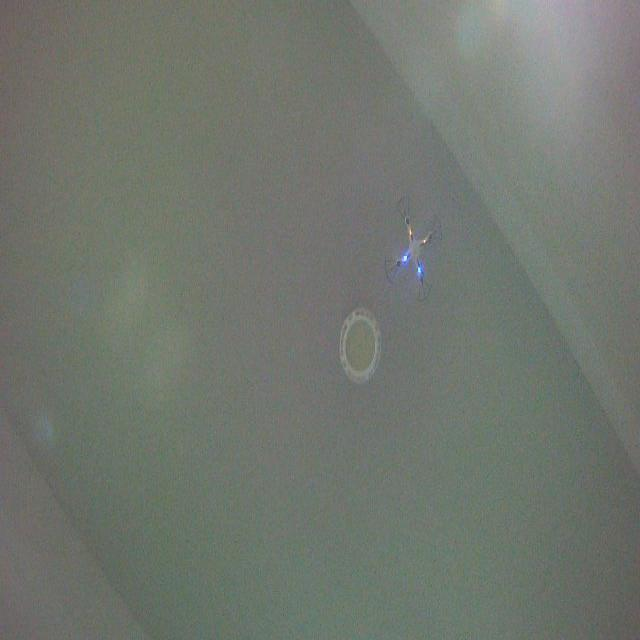drone: (383, 192, 446, 307)
